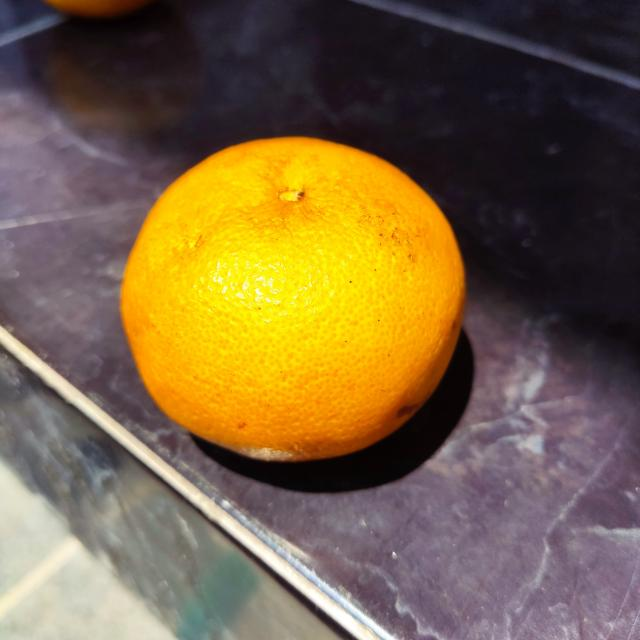orange: (114, 130, 472, 464)
